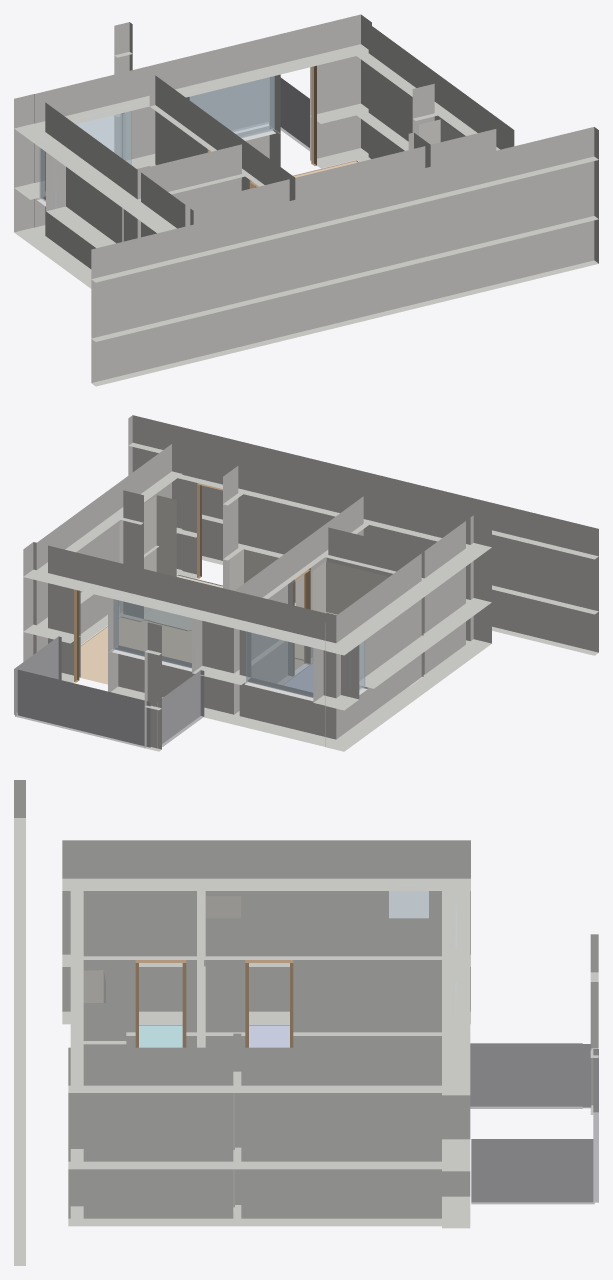
3 renders of one model, top to bottom at view 1: azimuth 30°, elevation 25°; view 2: azimuth 150°, elevation 25°; view 3: azimuth 270°, elevation 25°, orthographic. The views are drawn at different scales.
Visible parts, largest first — view 1: walls, railings, window_2, window_0, furniture_1_closet, door_3; view 2: walls, railings, window_2, window_0, floor_1_Living_Room, furniture_0_closet, furniture_1_closet, furniture_4_appliance, floor_3_Entry, door_3, door_6, door_4 (+1 smaller); view 3: walls, railings, window_1, floor_4_Bath, floor_0_Bed_Room, door_5, furniture_0_closet, door_6, furniture_2_closet.
Part boxes in pixels (x1,y1,x2,y2): walls: (14,14,598,386); railings: (120,77,309,160); window_2: (184,76,274,137); window_0: (70,105,131,164); furniture_1_closet: (419,119,463,144); door_3: (311,65,316,165); walls: (23,415,598,751); railings: (14,636,204,748); window_2: (113,594,193,668); window_0: (246,626,318,697); floor_1_Living_Room: (80,616,303,684); furniture_0_closet: (312,561,423,686); furniture_1_closet: (119,495,176,618); furniture_4_appliance: (229,549,278,590); floor_3_Entry: (144,574,222,629); door_3: (74,589,79,682); door_6: (293,568,310,675); door_4: (197,483,222,578); walls: (14,780,598,1265); railings: (470,1043,598,1204); window_1: (389,884,428,918); floor_4_Bath: (139,1024,182,1047); floor_0_Bed_Room: (249,1024,289,1047); door_5: (135,960,186,1047); furniture_0_closet: (204,896,240,1046); door_6: (245,960,293,1047); furniture_2_closet: (83,970,105,1002).
Size of the model in its own units: 10.64 by 2.72 by 8.36.
